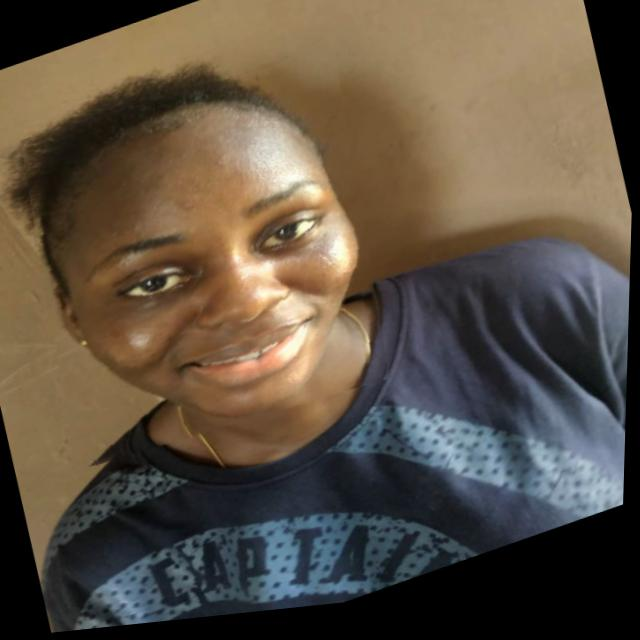happy: (1, 37, 413, 489)
